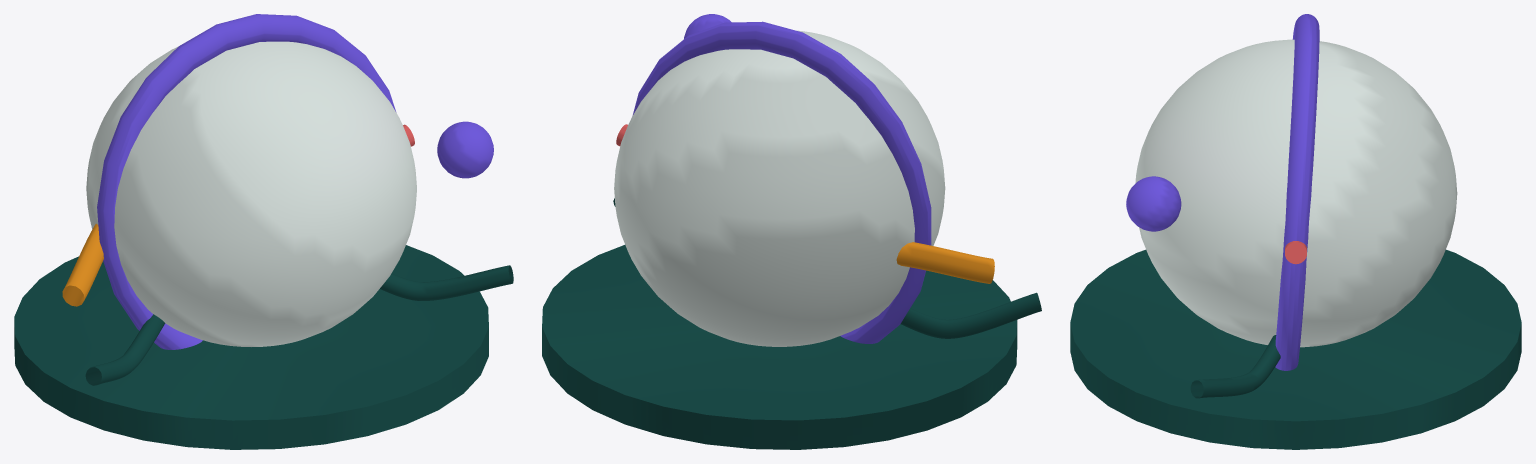
The model's file is 1238_细胞图鉴_细胞质.glb.
The picture shows the model from 3 angles, left to right: view 1: azimuth 30°, elevation 25°; view 2: azimuth 150°, elevation 25°; view 3: azimuth 270°, elevation 25°; orthographic projection. The views are drawn at different scales.
Parts seen in each view (by area): view 1: card_1238; view 2: card_1238; view 3: card_1238.
Part boxes in pixels (x1,y1,x2,y2): card_1238: [14, 14, 513, 449]; card_1238: [542, 14, 1041, 449]; card_1238: [1070, 14, 1521, 449].
Size of the model in its own units: 1.31 by 1 by 1.24.
